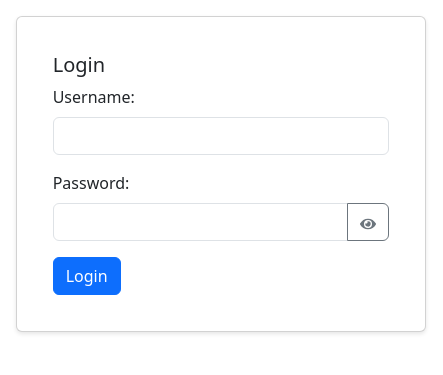
it: LoginForm shows username error
The width and height of the screenshot is (443, 375).
Type "abc" into the field labelled "Username:" at (221, 136), box [53,117,389,155]
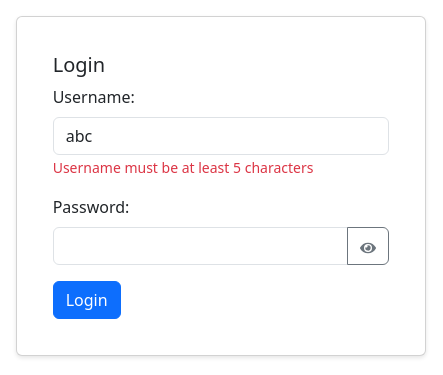
Expected: the text "Username must be at least 5 characters" is shown, [53,158,314,177]
